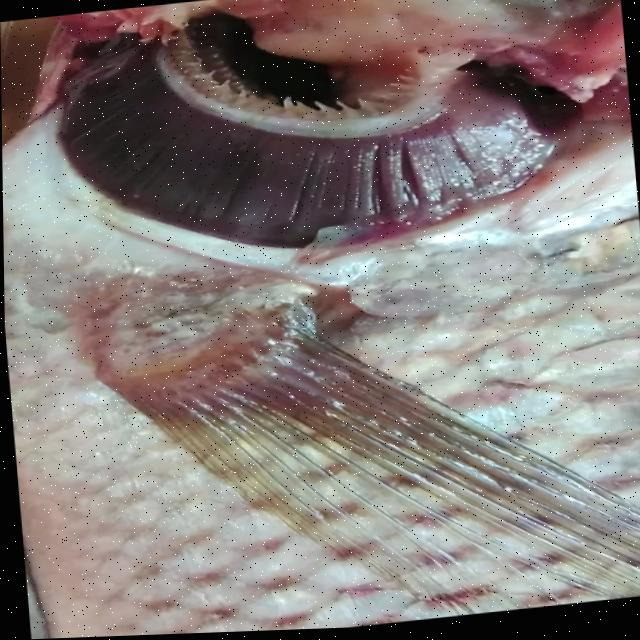Non-Fresh: (50, 0, 566, 276)
